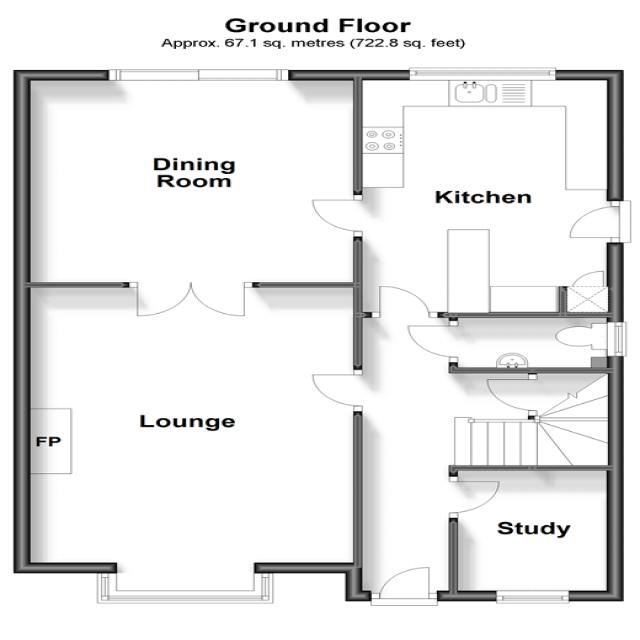DOOR: (569, 199, 633, 244), (369, 566, 439, 606), (310, 364, 363, 416), (310, 190, 363, 241), (448, 475, 501, 519), (370, 285, 439, 318), (406, 320, 458, 363)
DOUBLE DOOR: (120, 282, 261, 317)
ROOM: (13, 281, 364, 604), (12, 69, 363, 318), (311, 67, 632, 318), (447, 465, 624, 604)
WINDOW: (95, 572, 275, 604), (106, 68, 291, 82), (408, 67, 557, 81), (495, 589, 570, 605), (606, 321, 628, 357)
